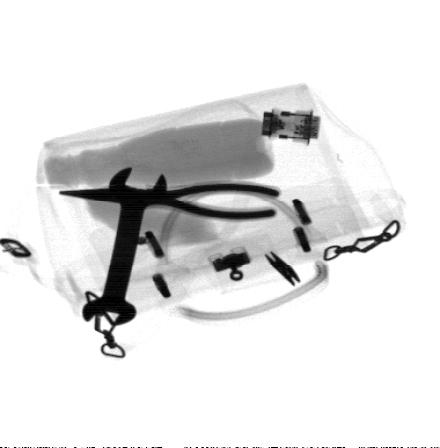Pliers: (59, 182, 284, 222)
Wrench: (80, 165, 168, 326)
